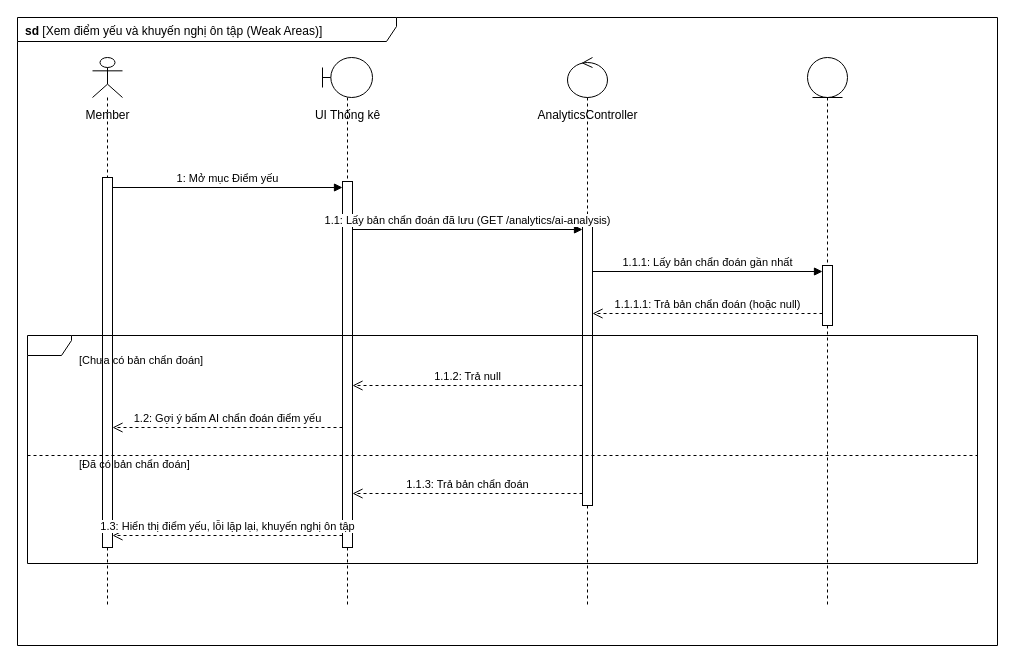
Some shapes in this 1015 by 663 pixel diagram are drawn without their labels. The shapes that lost their labels are listed below. From the top down, each one's box as (x1, y1, x2, y2) in pixels, then its label:
(806, 56, 848, 606): AIAnalysisModel
(26, 334, 978, 564): alt
